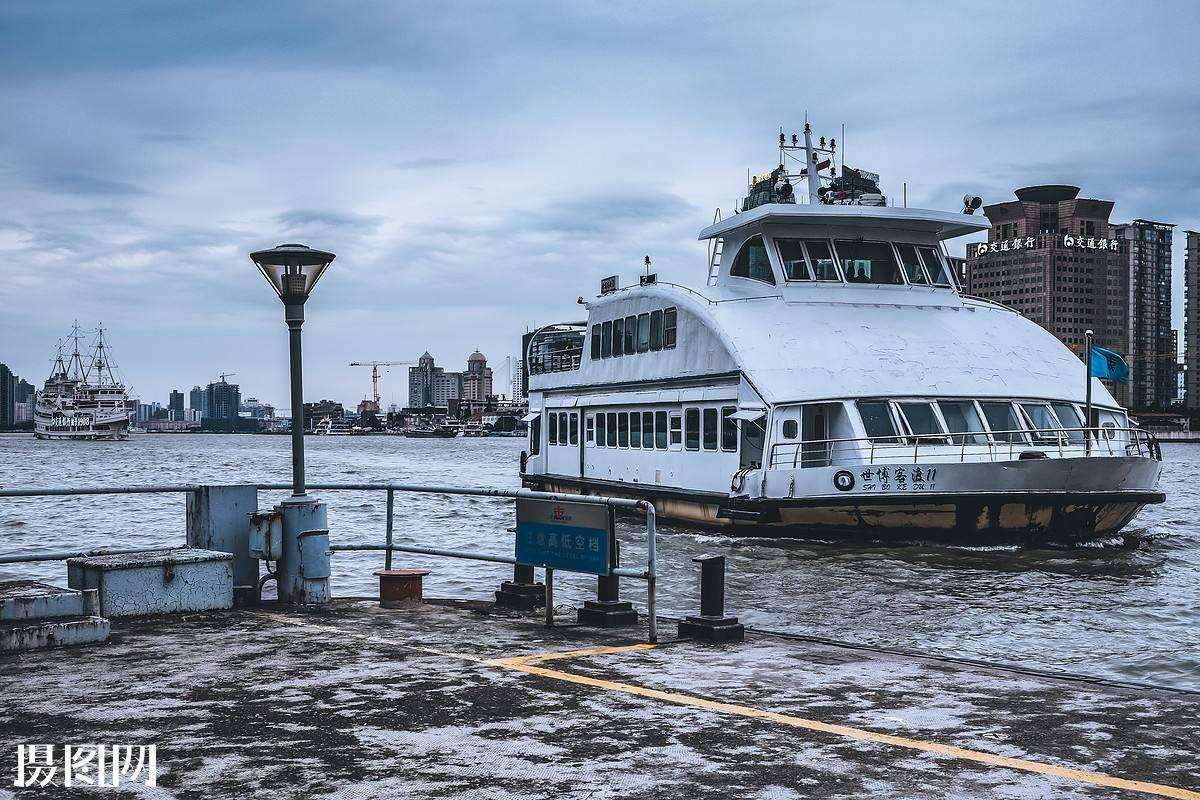yacht: (501, 122, 1180, 538)
